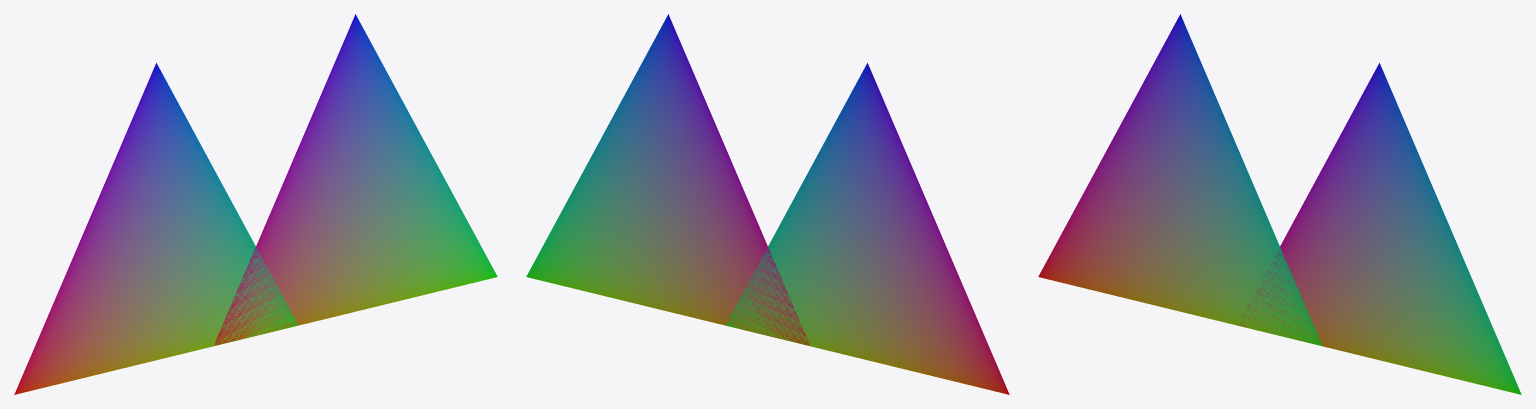
File: exploded_view_assembly.gltf
The picture shows the model from 3 angles, left to right: view 1: azimuth 30°, elevation 25°; view 2: azimuth 150°, elevation 25°; view 3: azimuth 330°, elevation 25°; orthographic projection.
Visible parts, largest first — view 1: RightPlate, LeftPlate; view 2: RightPlate, LeftPlate; view 3: LeftPlate, RightPlate.
Boxes of the visible parts, <box> form: RightPlate: <box>214,14,497,345</box>; LeftPlate: <box>14,63,298,394</box>; RightPlate: <box>526,14,809,345</box>; LeftPlate: <box>725,63,1009,394</box>; LeftPlate: <box>1038,14,1322,346</box>; RightPlate: <box>1239,63,1521,394</box>.
Bounding box in the file's own units: 1.7 × 1 × 0.
